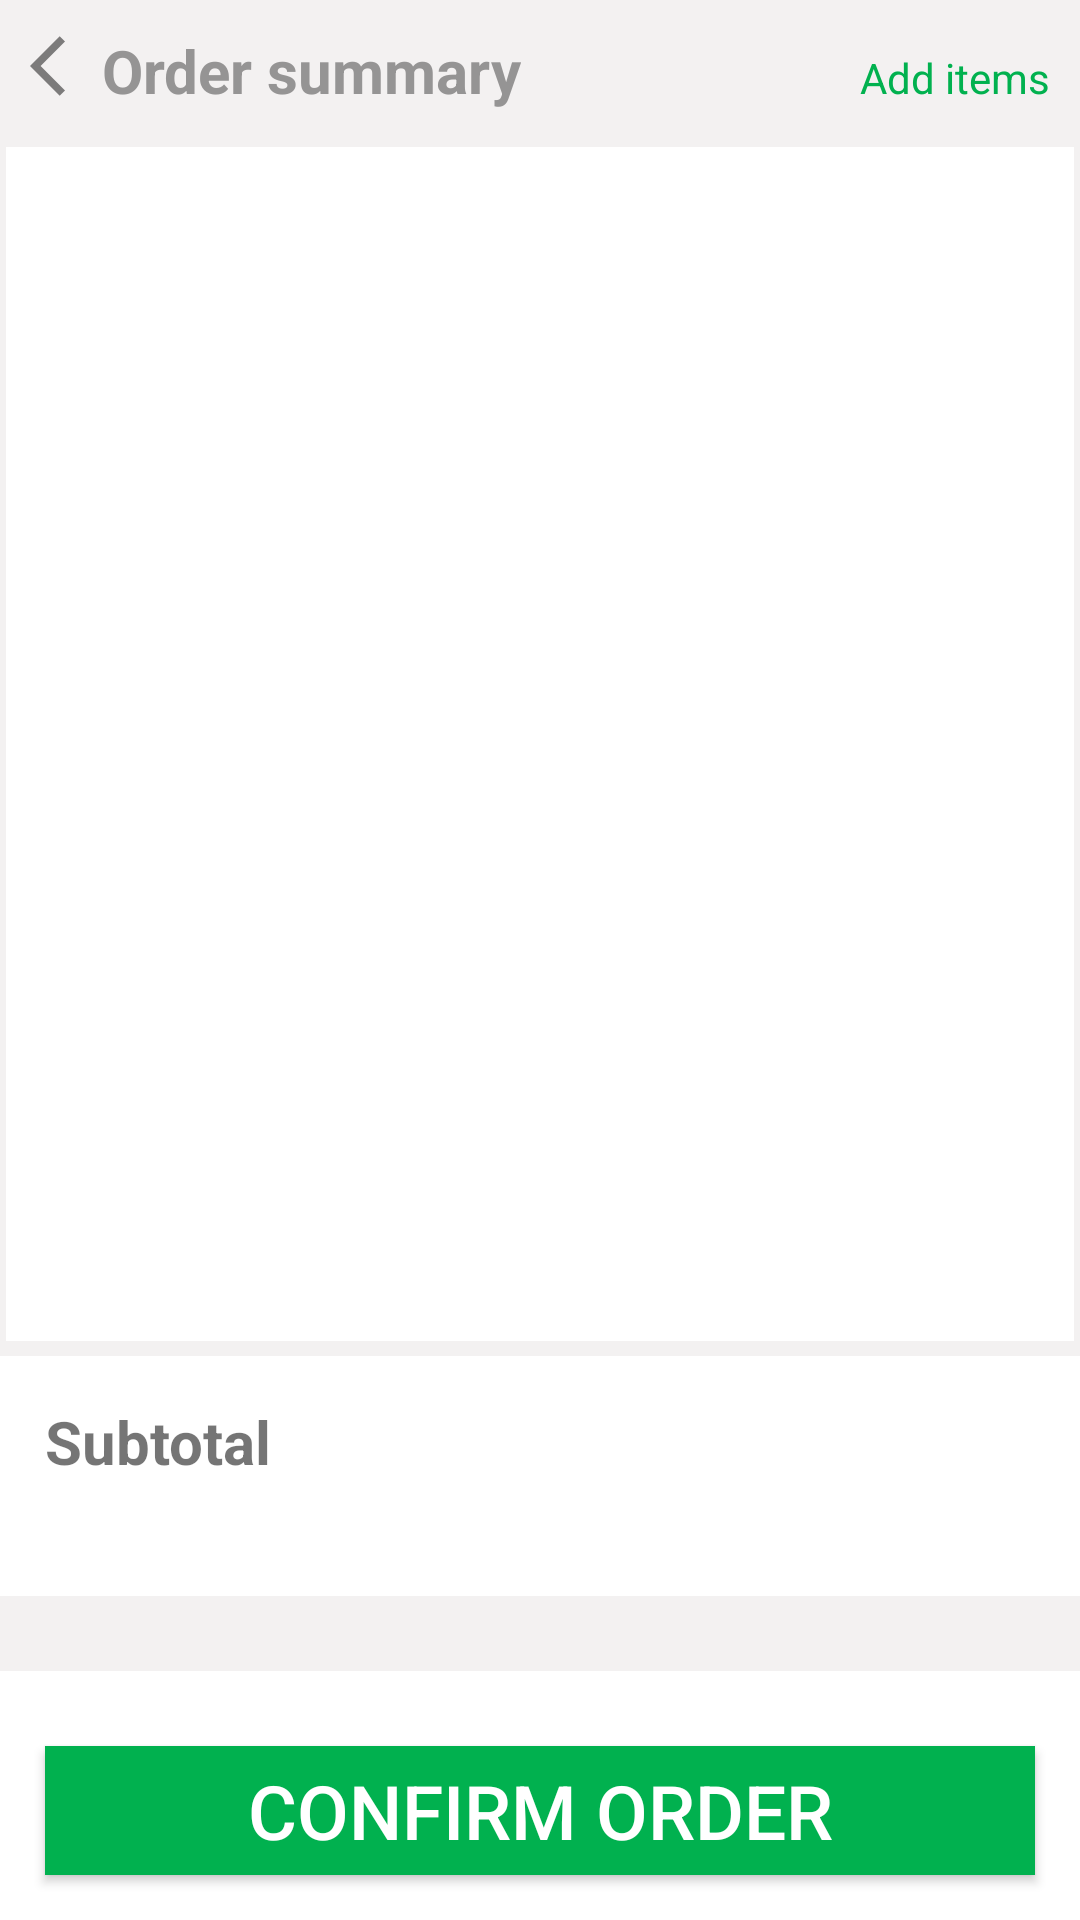

Icon bounding boxes for this 1080 × 1920 phone screenshot, format rect(x1, y1, x2, y2):
arrow back: rect(30, 36, 65, 96)
